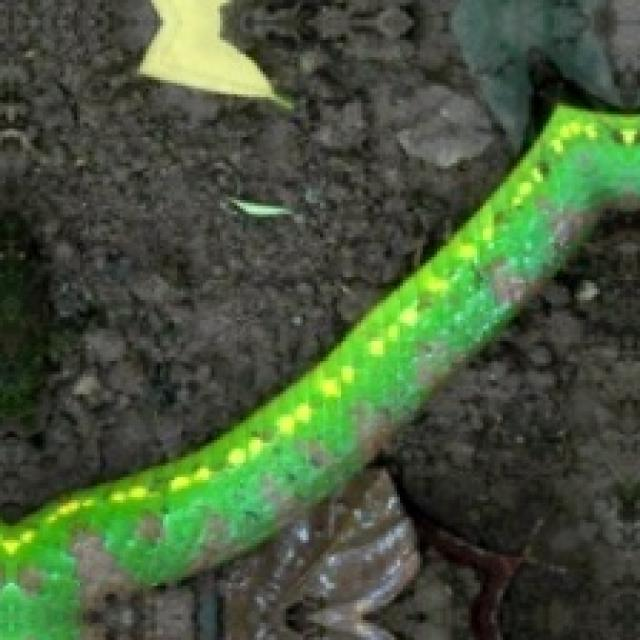philippine pitviper: (0, 106, 637, 637)
